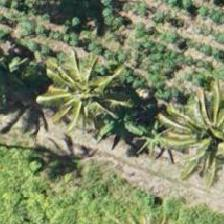coconut_tree: (40, 52, 130, 142), (175, 87, 223, 177)
